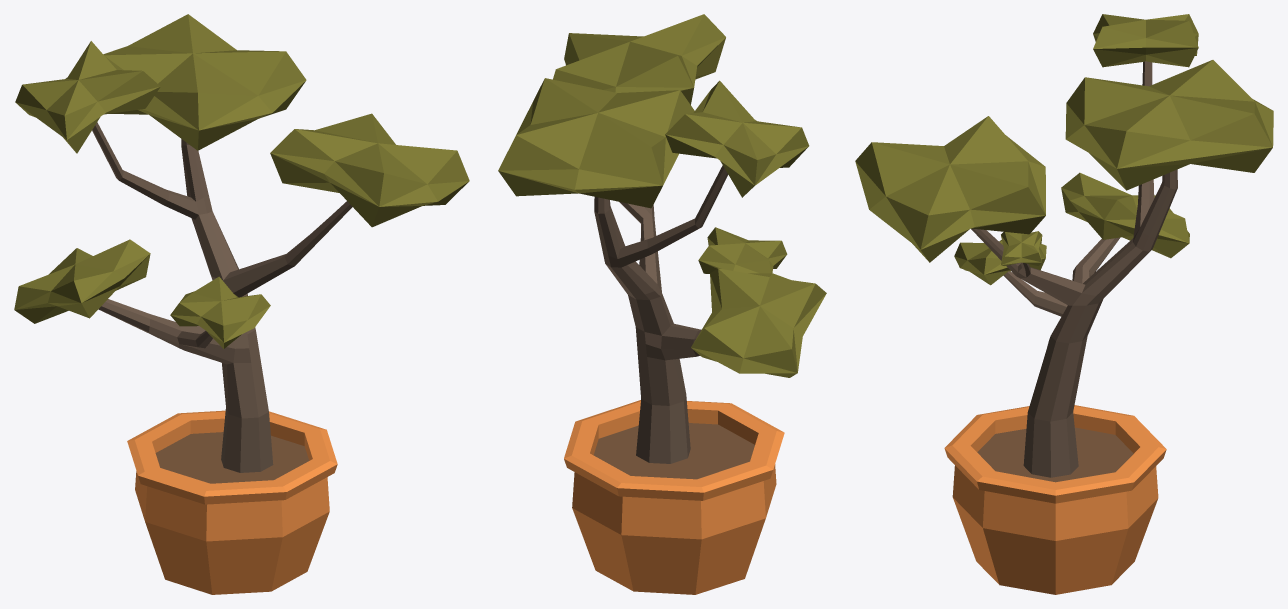
Rendered from Bonsai.fbx.
3 views of the same model, side by side, from view 1: azimuth 30°, elevation 25°; view 2: azimuth 150°, elevation 25°; view 3: azimuth 270°, elevation 25° (orthographic). The views are drawn at different scales.
Visible parts, largest first — view 1: Bonsai; view 2: Bonsai; view 3: Bonsai.
Part boxes in pixels (box(x1,y1,x2,y2)): Bonsai: box(14, 14, 469, 594); Bonsai: box(498, 14, 826, 594); Bonsai: box(855, 14, 1273, 594).
Size of the model in its own units: 61.91 by 64.86 by 86.
